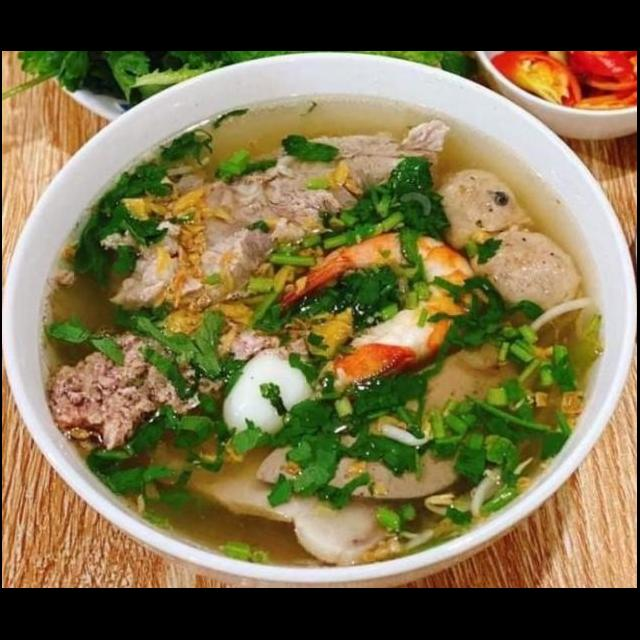gan: (252, 324, 530, 506)
thit heo: (100, 114, 454, 320)
tom: (272, 226, 486, 400)
trung: (216, 332, 332, 442)
